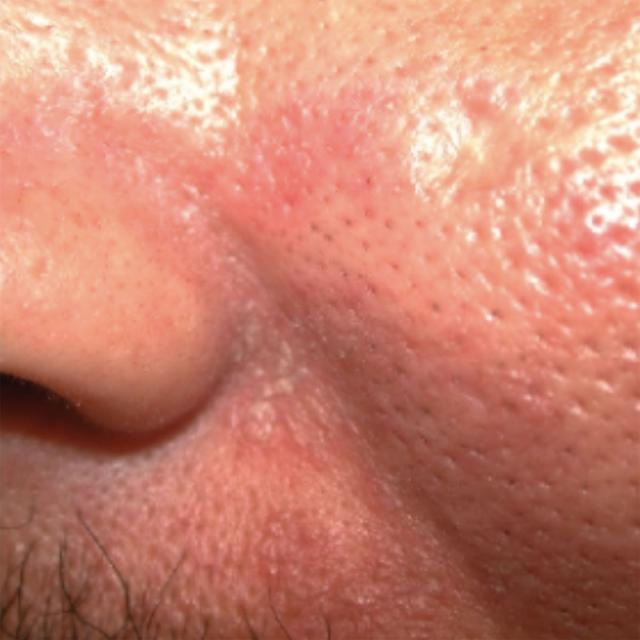Englarged-Pores: (24, 21, 526, 425)
Oily-Skin: (4, 5, 640, 568)
